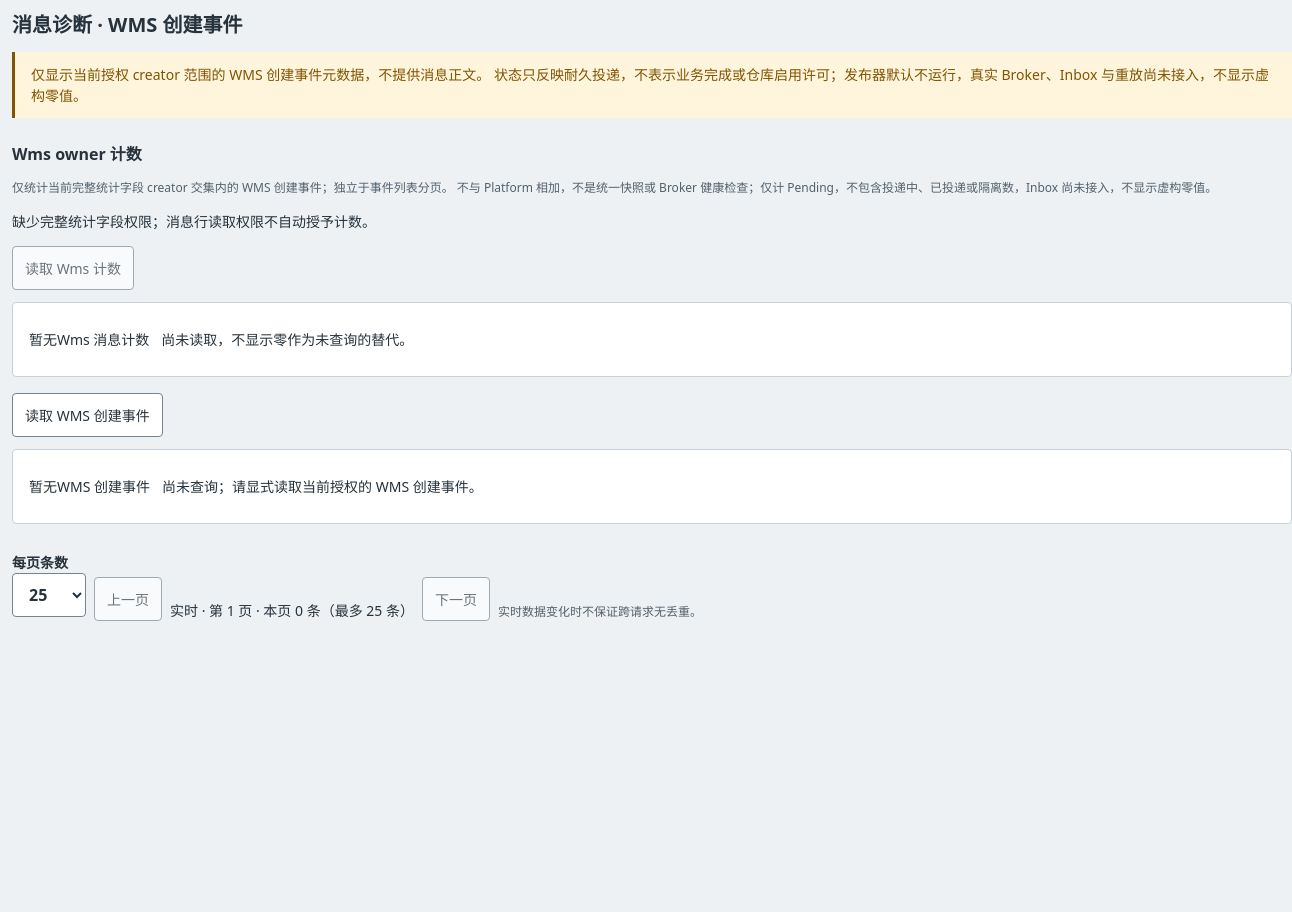
renders the actual durable delivery state 1 without business-completion claims
Step 1. Click the button with test id "read-wms-events" → x=87, y=415, box [12,393,163,437]
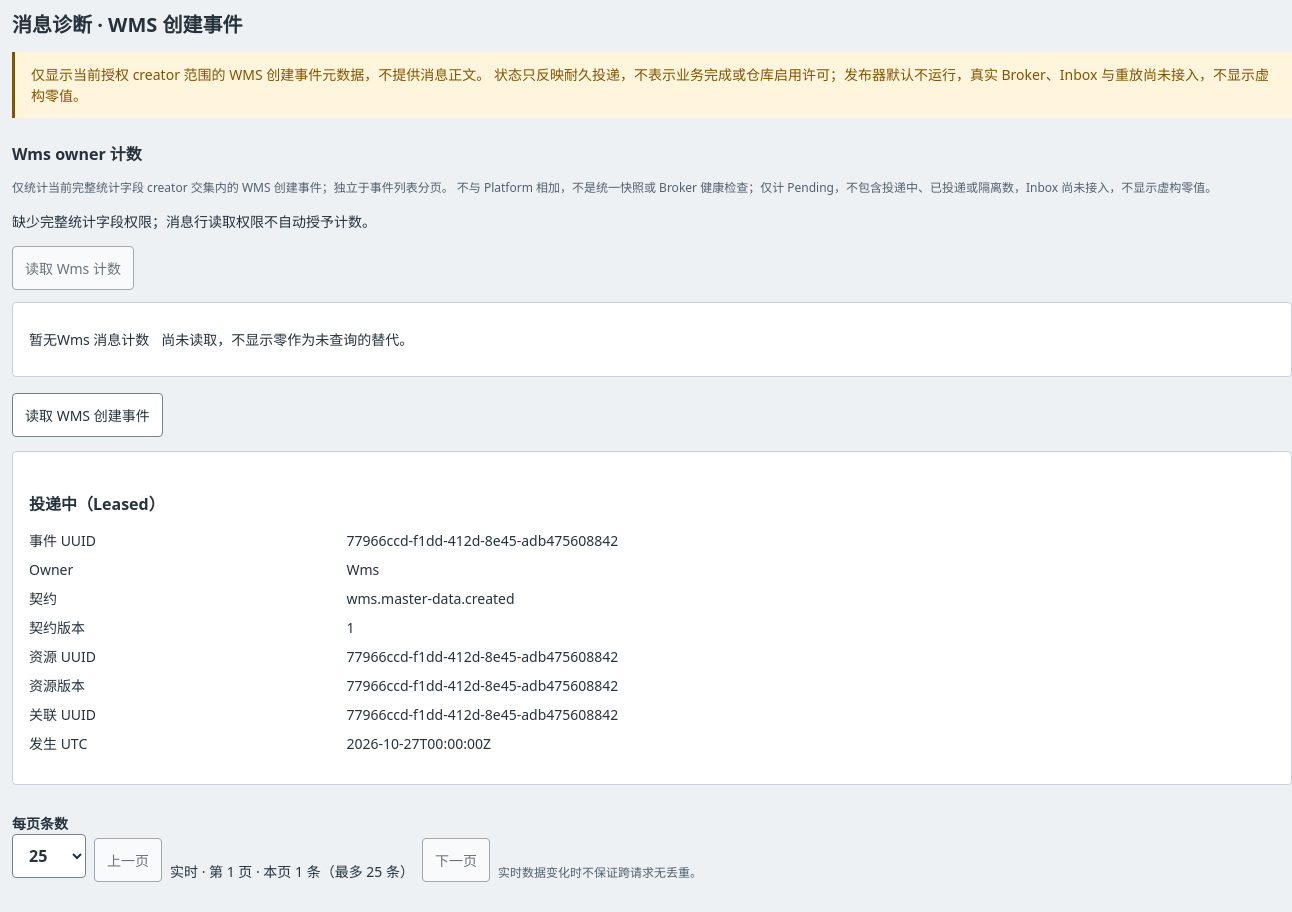
Expected: the text "不表示业务完成" is shown, [31,65,1269,105]
Expected: the heading "投递中（Leased）" is shown, [29,493,165,515]
